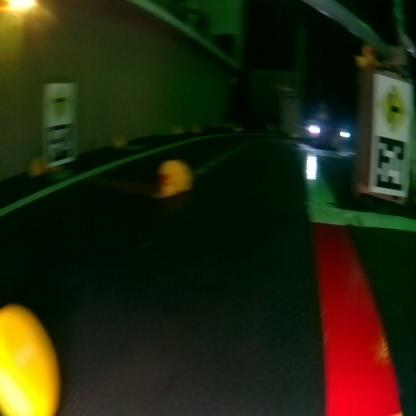Duckie: (0, 304, 59, 414), (156, 159, 192, 195)
Duckiebot: (303, 121, 351, 149)
Intersection sign: (376, 82, 407, 130), (47, 86, 73, 117)
QR code: (373, 134, 405, 192), (44, 122, 74, 162)
